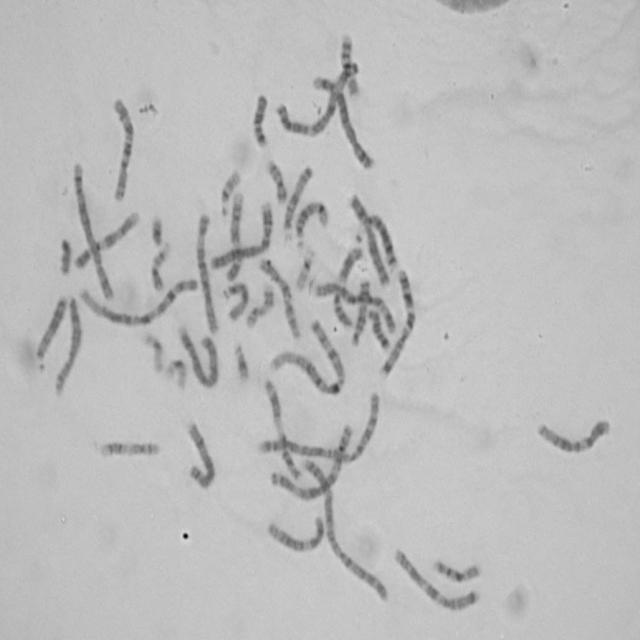A1: (74, 273, 200, 329), (268, 314, 346, 396)
A2: (298, 451, 391, 606), (258, 384, 383, 468)
A3: (274, 37, 359, 137), (269, 417, 355, 503)
B4: (206, 195, 274, 272), (175, 319, 221, 390)
B5: (69, 158, 115, 304), (310, 70, 376, 170)
C10: (255, 253, 303, 342), (109, 92, 137, 202)
C11: (259, 373, 303, 484), (330, 241, 365, 329)
C12: (534, 413, 614, 456), (264, 510, 326, 555)
C6: (312, 277, 400, 335), (193, 208, 222, 336)
C7: (390, 542, 483, 613), (377, 264, 418, 381)
C8: (50, 289, 83, 398), (182, 416, 217, 493)
C9: (72, 207, 141, 271), (223, 186, 246, 284)
D13: (348, 202, 399, 272), (32, 291, 70, 364)
D14: (291, 195, 330, 248), (347, 274, 372, 348)
D15: (279, 161, 315, 239), (220, 279, 250, 323)
E16: (337, 29, 361, 97), (429, 555, 483, 584)
E17: (96, 434, 162, 461), (242, 282, 276, 330)
E18: (364, 304, 393, 352), (250, 88, 270, 150)
F19: (140, 327, 166, 375), (164, 354, 189, 391)
F20: (263, 155, 289, 205), (148, 237, 171, 293)
G21: (231, 338, 251, 383), (148, 210, 165, 248)
G22: (217, 164, 242, 217), (292, 243, 317, 292)
X: (346, 188, 394, 289)
Y: (56, 233, 74, 277)
